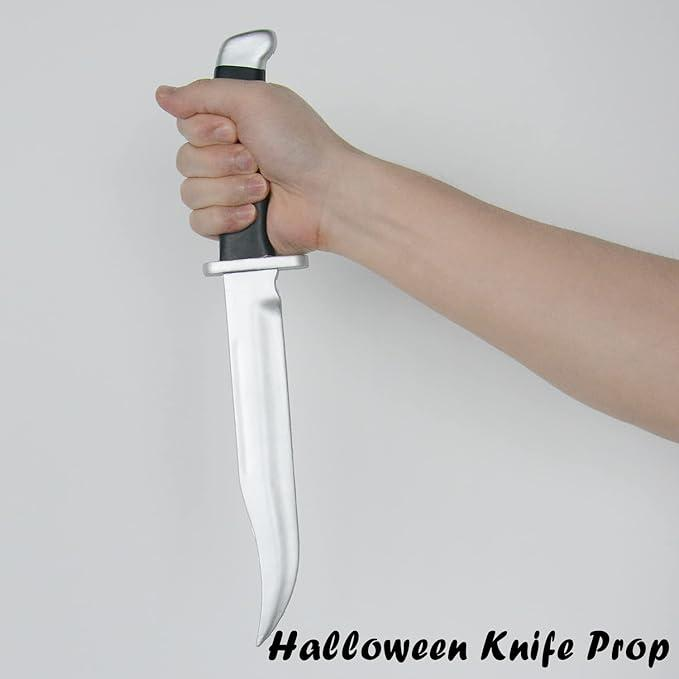Knife: (152, 76, 679, 453), (198, 27, 304, 649), (151, 78, 337, 263)
